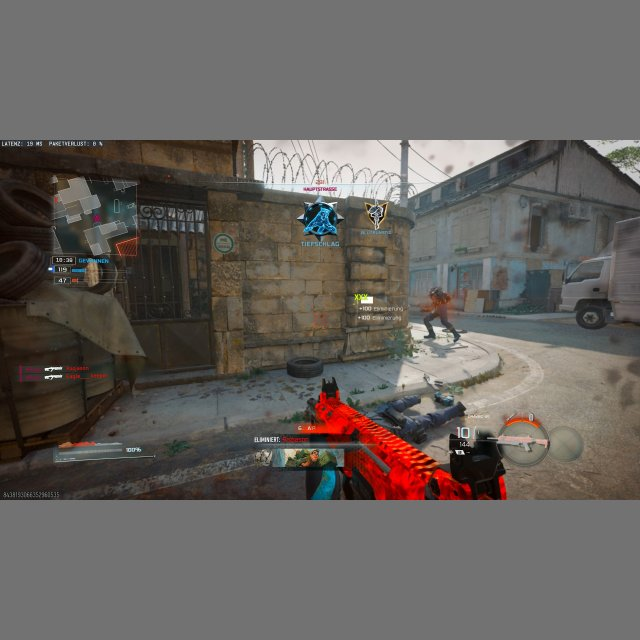head: (429, 286, 441, 298)
player: (420, 284, 460, 343)
